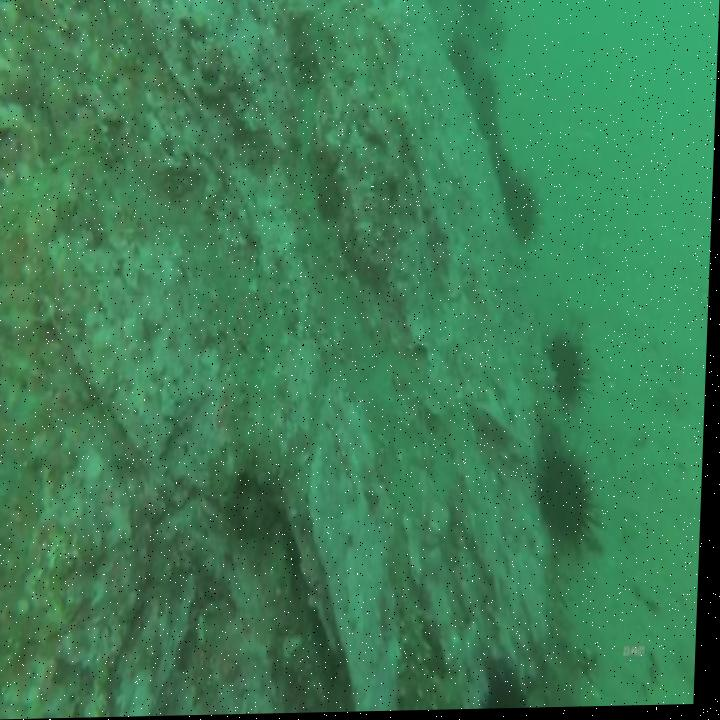echinus: (538, 435, 605, 552), (546, 329, 594, 414), (498, 172, 546, 253), (487, 655, 541, 711), (444, 33, 480, 90), (470, 103, 505, 155), (490, 146, 522, 198), (470, 66, 500, 120), (452, 0, 493, 28), (480, 18, 507, 57)
holothurian: (396, 605, 446, 712)
